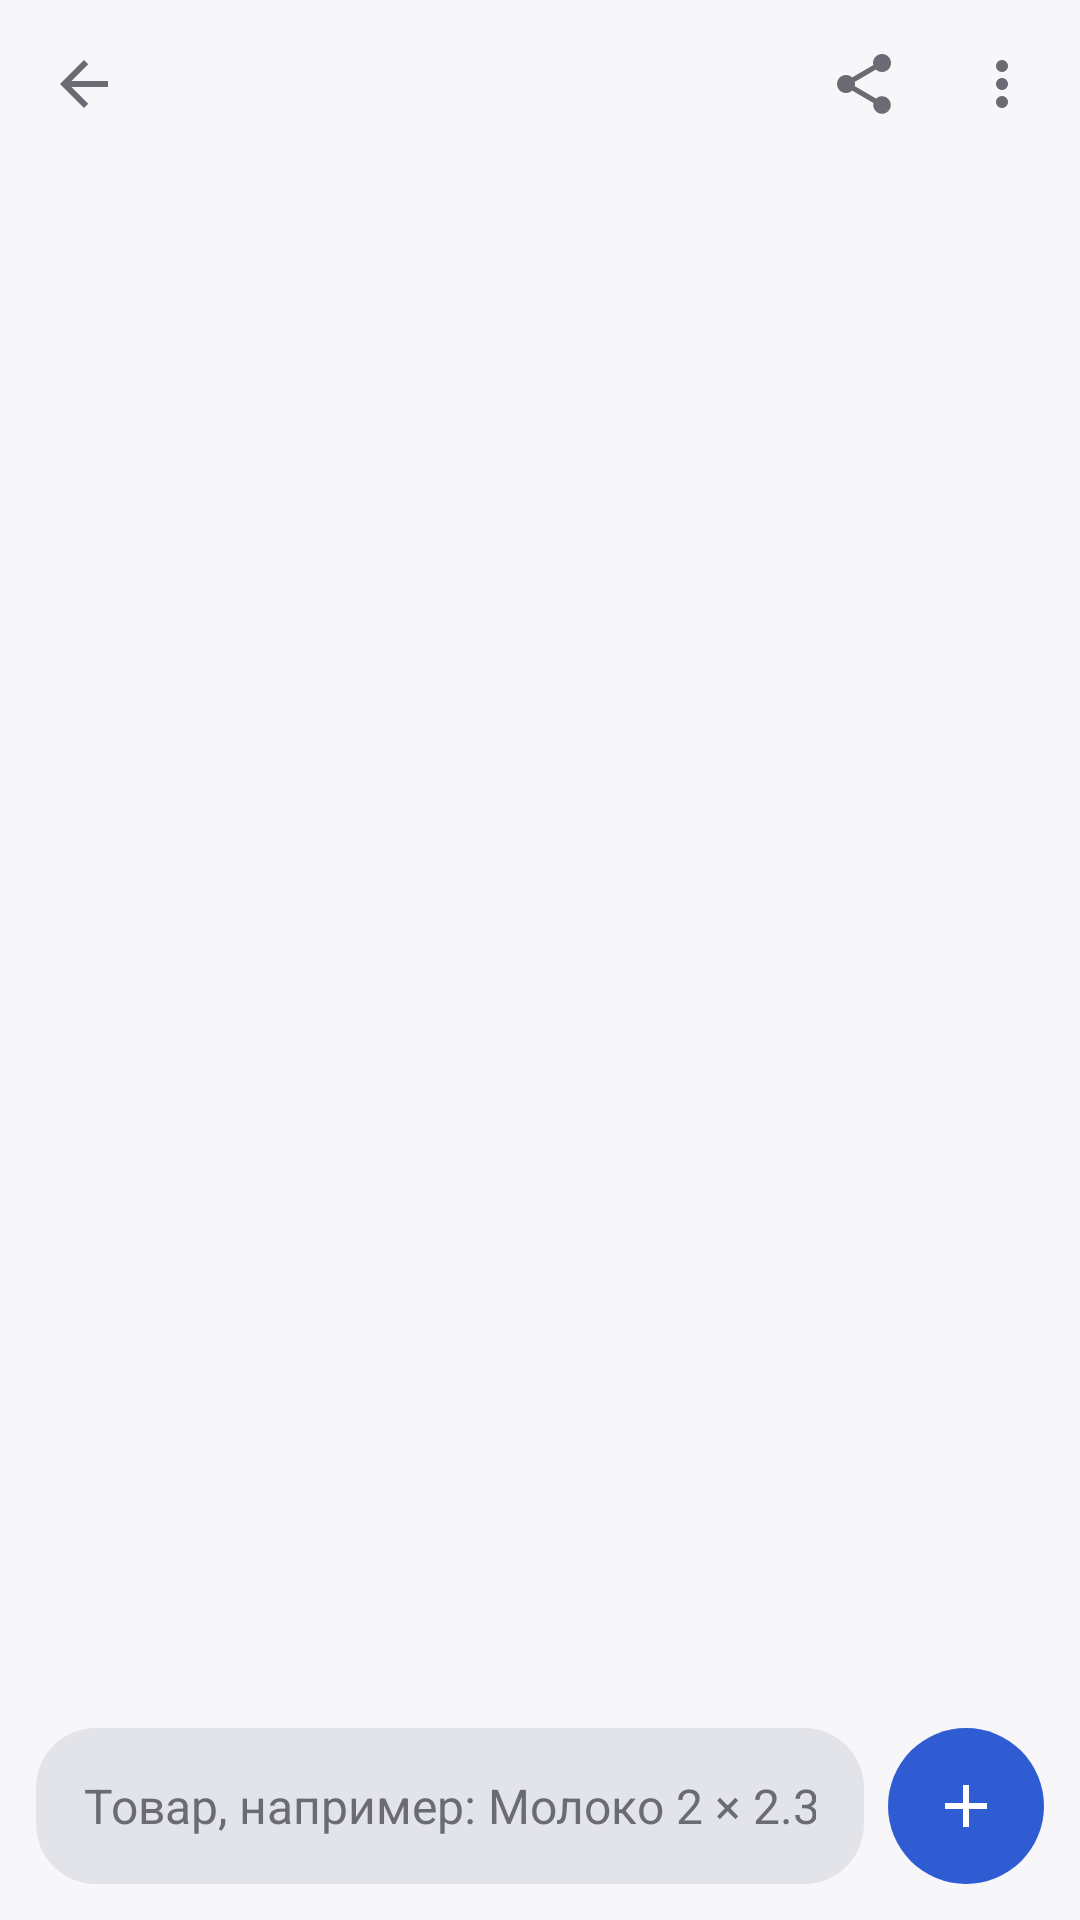

Screen size 1080×1920. Icon name, then its center in pixels as (x,y):
Добавить товар: (966,1806)
Ещё: (1002,84)
Назад: (84,84)
Поделиться списком: (864,84)
